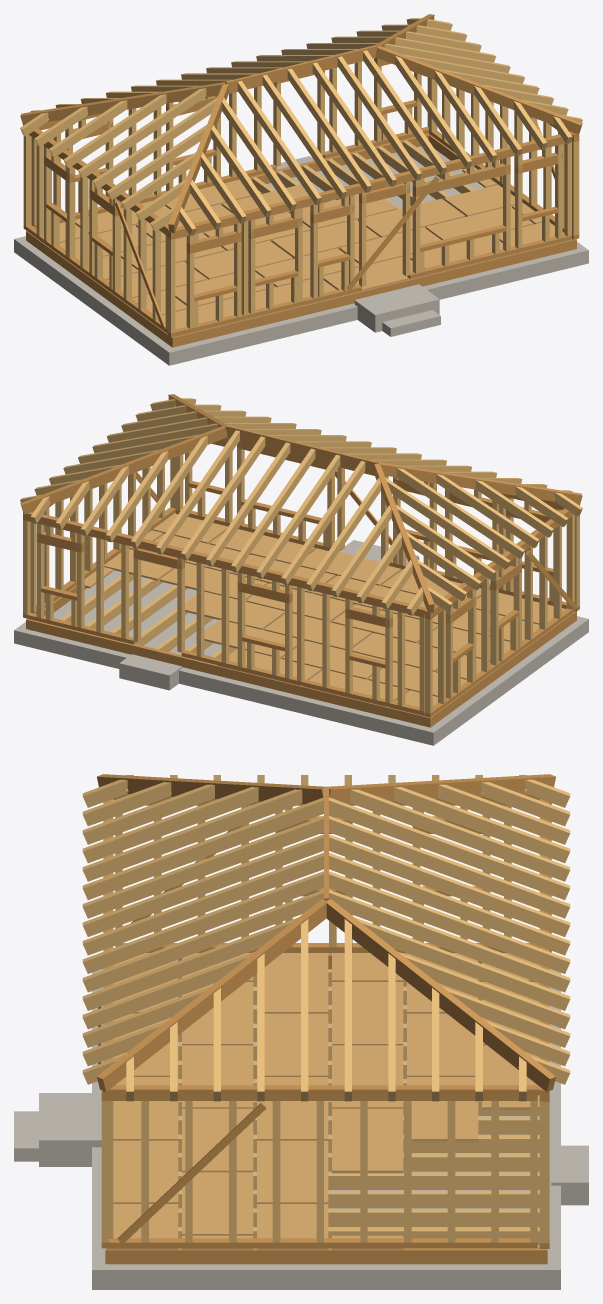
File: base-02-framing.glb
3 views of the same model, one above another, from view 1: azimuth 30°, elevation 25°; view 2: azimuth 150°, elevation 25°; view 3: azimuth 270°, elevation 25° (orthographic). The views are drawn at different scales.
Visible parts, largest first — view 1: base_house_2_framing; view 2: base_house_2_framing; view 3: base_house_2_framing.
Boxes of the visible parts, x1,y1,x2,y2 form: base_house_2_framing: [14, 14, 588, 365]; base_house_2_framing: [14, 394, 588, 745]; base_house_2_framing: [14, 774, 588, 1289].
Size of the model in its own units: 12 by 5.17 by 9.2.
